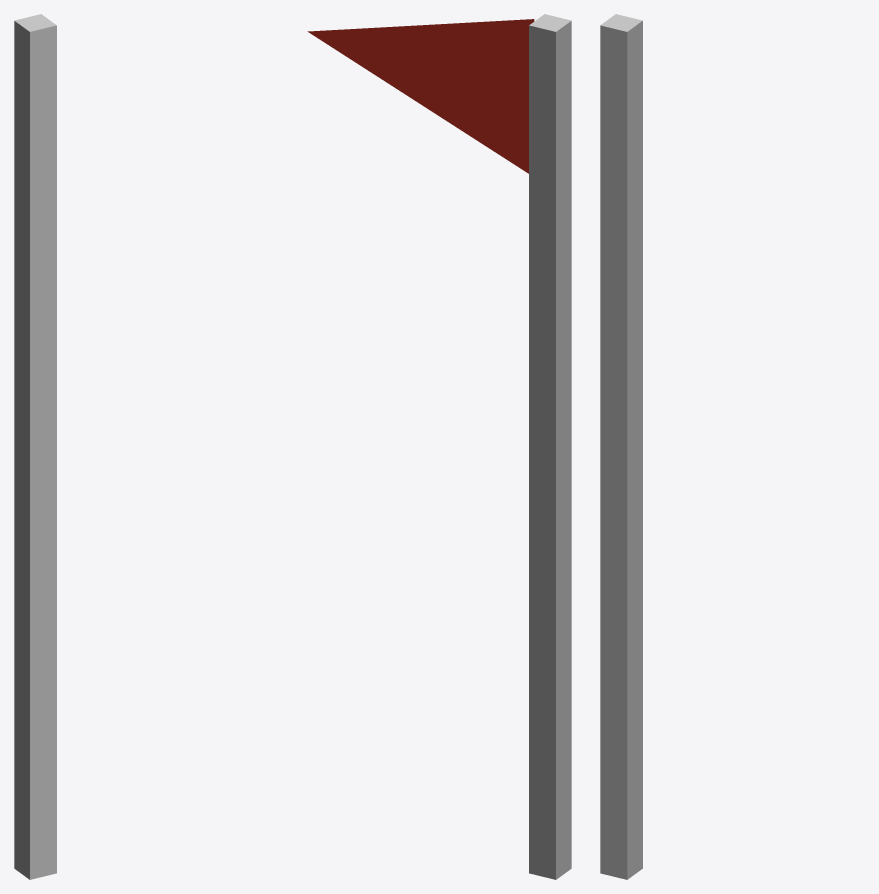
File: corner_flag.glb
3 renders of one model, left to right at view 1: azimuth 30°, elevation 25°; view 2: azimuth 150°, elevation 25°; view 3: azimuth 330°, elevation 25°, orthographic.
Parts seen in each view (by area): view 1: corner_flag; view 2: corner_flag; view 3: corner_flag.
Boxes of the visible parts, left/top/right/bottom form: corner_flag: left=14, top=14, right=56, bottom=879; corner_flag: left=307, top=14, right=571, bottom=879; corner_flag: left=600, top=14, right=642, bottom=879.
Bounding box in the file's own units: 0.475 × 1.5 × 0.05.
